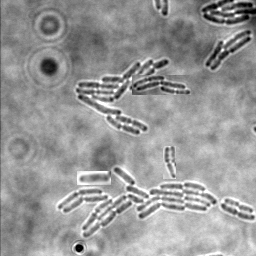Dividing: (219, 204, 255, 222), (223, 199, 253, 215), (77, 171, 111, 185), (163, 146, 176, 179)
Microcolony: (57, 167, 216, 238), (75, 59, 169, 136), (204, 30, 251, 72), (200, 1, 255, 26), (132, 75, 191, 95)
